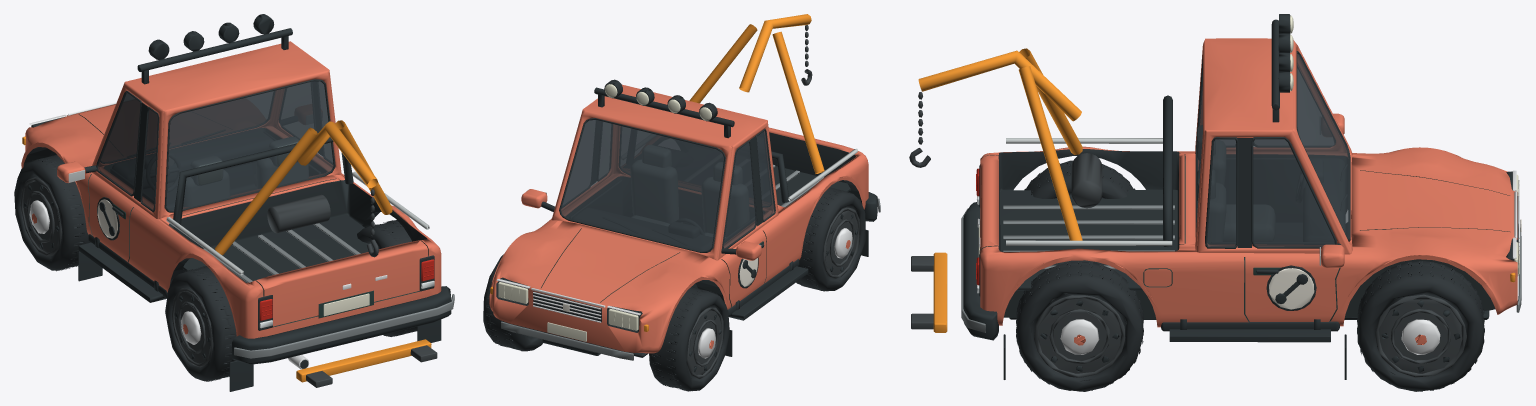
Rendered from pitgarage_lod2.fbx.
3 renders of one model, left to right at view 1: azimuth 30°, elevation 25°; view 2: azimuth 150°, elevation 25°; view 3: azimuth 270°, elevation 25°, orthographic. The views are drawn at different scales.
Visible parts, largest first — view 1: Body, Wheel_FL_Mesh, Wheel_RL_Mesh, Wheel_RR_Mesh; view 2: Body, Wheel_FL_Mesh, Wheel_RL_Mesh, Wheel_FR_Mesh; view 3: Body, Wheel_FR_Mesh, Wheel_RR_Mesh, Wheel_RL_Mesh.
Part boxes in pixels (x1,y1,x2,y2): Body: (21,14,454,391); Wheel_FL_Mesh: (14,154,89,271); Wheel_RL_Mesh: (165,266,236,381); Wheel_RR_Mesh: (357,220,417,336); Body: (489,14,880,360); Wheel_FL_Mesh: (649,287,729,391); Wheel_RL_Mesh: (796,187,865,291); Wheel_FR_Mesh: (483,254,543,351); Body: (909,14,1521,379); Wheel_FR_Mesh: (1357,261,1484,391); Wheel_RR_Mesh: (1016,261,1143,391); Wheel_RL_Mesh: (1024,160,1135,198).
Bounding box in the file's own units: 237 × 225 × 431.
